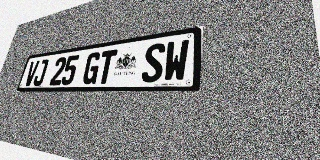2: (49, 56, 68, 85)
5: (60, 55, 80, 85)
G: (81, 51, 102, 84)
J: (32, 59, 49, 86)
S: (141, 42, 166, 83)
T: (96, 49, 118, 84)
V: (23, 60, 40, 86)
W: (162, 39, 190, 82)
